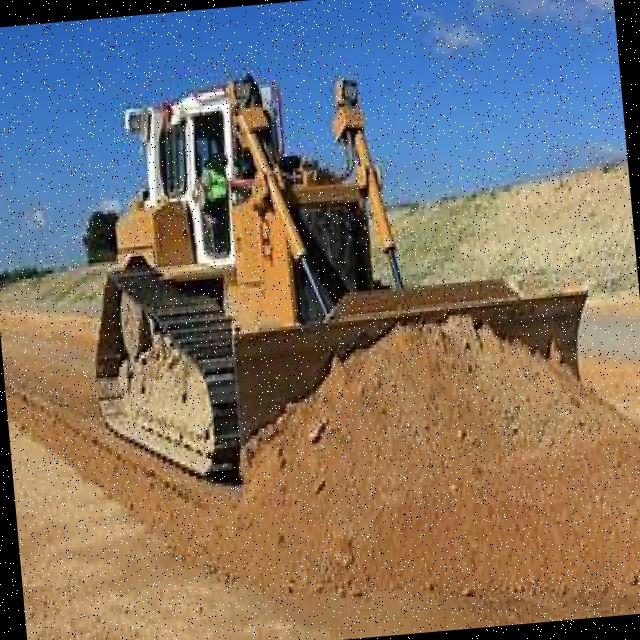Bulldozer: (64, 34, 616, 596)
